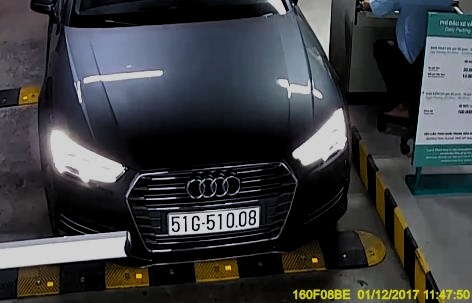plate: (168, 207, 260, 233)
